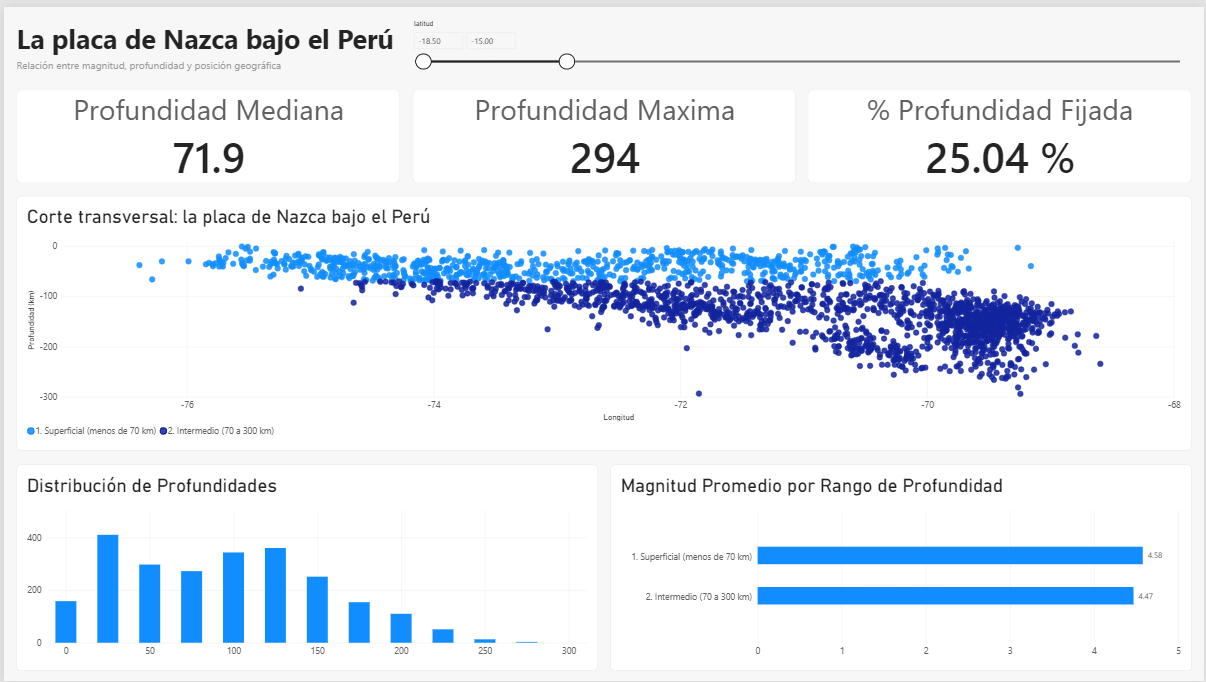

This screenshot's page, from the dashboard's own definition file:
{"tool":"powerbi","page":{"name":"Profundidad","canvas":[1920,1080],"ordinal":1},"visuals":[{"type":"textbox","box":[20,20,608,62],"z":0},{"type":"textbox","box":[20,82,430,30],"z":1000},{"type":"scatterChart","title":"Corte transversal: la placa de Nazca bajo el Perú","fields":{"Category":["sismo.id_usgs"],"Series":["sismo.rango_profundidad"],"X":["Avg(sismo.longitud)"],"Y":["sismo.profundidad_negativa"]},"box":[20,302,1880,408],"z":2000},{"type":"slicer","fields":{"Values":["sismo.latitud"]},"box":[648,20,1252,92],"z":3000},{"type":"clusteredColumnChart","title":"Distribución de Profundidades","fields":{"Category":["sismo.profundidad_km (ubicaciones)"],"Y":["sismo.Eventos"]},"box":[20,732,930,330],"z":4000},{"type":"clusteredBarChart","title":"Magnitud Promedio por Rango de Profundidad","fields":{"Category":["sismo.rango_profundidad"],"Y":["sismo.Magnitud Promedio"]},"box":[970,732,930,330],"z":5000},{"type":"cardVisual","fields":{"Data":["sismo.Profundidad Mediana"]},"box":[20,132,613,150],"z":6000},{"type":"cardVisual","fields":{"Data":["sismo.Profundidad Maxima"]},"box":[653,132,613,150],"z":7000},{"type":"cardVisual","fields":{"Data":["sismo.% Profundidad Fijada"]},"box":[1286,132,614,150],"z":8000}]}

Visuals, with their boxes in screenshot pixels (x1, y1, x2, y2), scaled from the page's 1920x1080 canvas onto the 1206x682 screenshot:
textbox: (13,13,394,52)
textbox: (13,52,283,71)
"Corte transversal: la placa de Nazca bajo el Perú" scatterChart: (13,191,1193,448)
slicer - sismo.latitud: (407,13,1193,71)
"Distribución de Profundidades" clusteredColumnChart: (13,462,597,671)
"Magnitud Promedio por Rango de Profundidad" clusteredBarChart: (609,462,1193,671)
cardVisual - sismo.Profundidad Mediana: (13,83,398,178)
cardVisual - sismo.Profundidad Maxima: (410,83,795,178)
cardVisual - sismo.% Profundidad Fijada: (808,83,1193,178)
